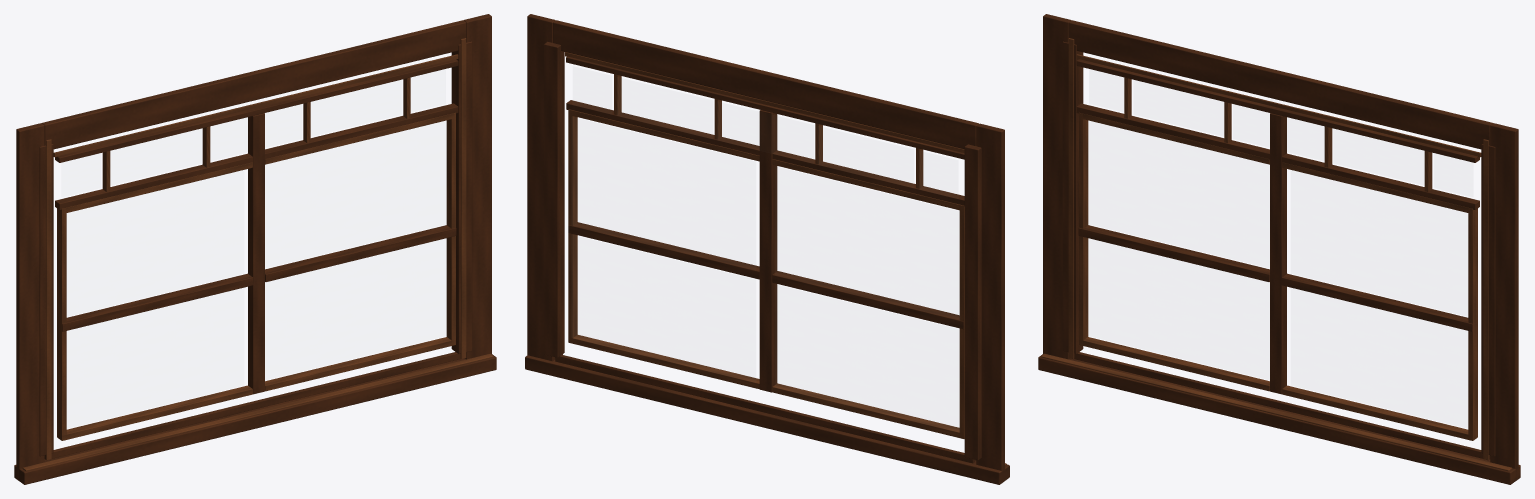
The model's file is asset.glb.
3 views of the same model, side by side, from view 1: azimuth 30°, elevation 25°; view 2: azimuth 150°, elevation 25°; view 3: azimuth 330°, elevation 25° (orthographic).
Parts seen in each view (by area): view 1: MaterialBatch_Visual_Director_stained_window_oak, MaterialBatch_Sash_edge_warm_oak; view 2: MaterialBatch_Visual_Director_stained_window_oak, MaterialBatch_Sash_edge_warm_oak; view 3: MaterialBatch_Visual_Director_stained_window_oak, MaterialBatch_Sash_edge_warm_oak.
Part boxes in pixels (x1,y1,x2,y2): MaterialBatch_Visual_Director_stained_window_oak: (14, 14, 496, 484); MaterialBatch_Sash_edge_warm_oak: (22, 38, 493, 471); MaterialBatch_Visual_Director_stained_window_oak: (525, 14, 1009, 484); MaterialBatch_Sash_edge_warm_oak: (562, 52, 1006, 465); MaterialBatch_Visual_Director_stained_window_oak: (1038, 14, 1520, 484); MaterialBatch_Sash_edge_warm_oak: (1041, 38, 1512, 471).
Bounding box in the file's own units: 96 × 68 × 4.1.
Materials: 5 (5 with a texture image).
